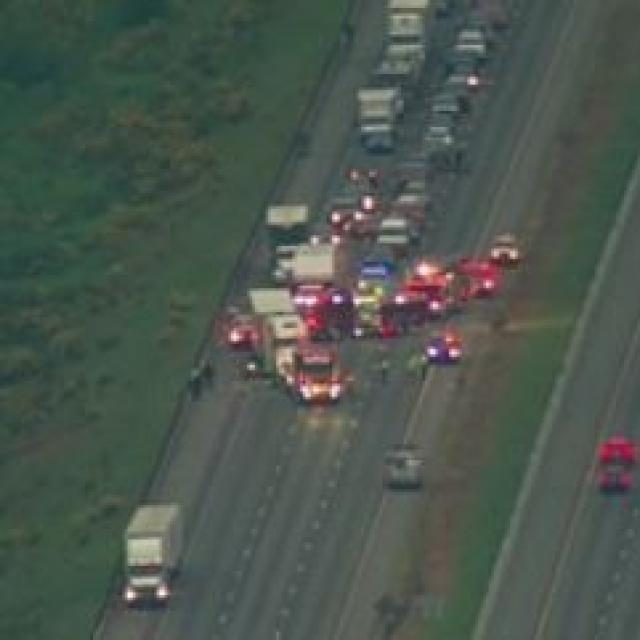traffic_incident: (237, 249, 436, 394)
